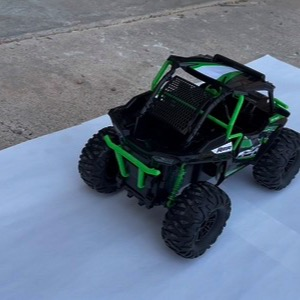polaris: (74, 55, 299, 260)
